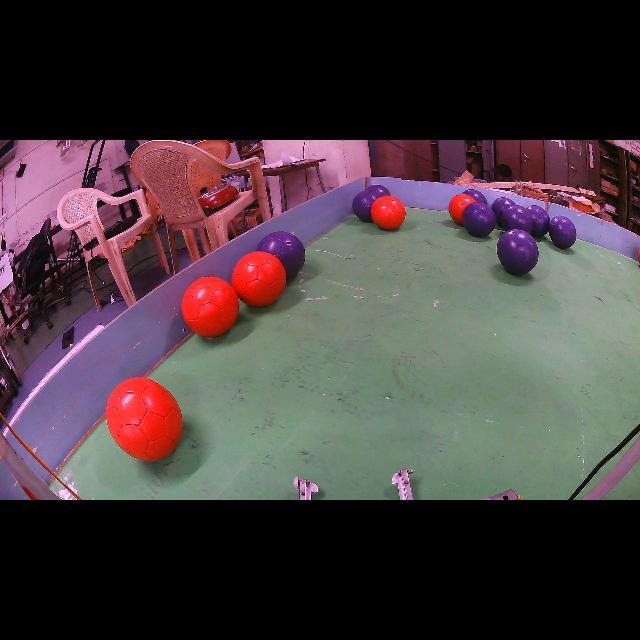P: (256, 231, 305, 278), (496, 230, 539, 275), (352, 185, 390, 222), (462, 201, 496, 238), (501, 205, 534, 234), (549, 215, 576, 249), (528, 205, 550, 238), (491, 198, 515, 226), (462, 189, 488, 204)
R: (106, 378, 182, 461), (181, 278, 239, 338), (231, 251, 286, 306), (371, 195, 406, 230), (449, 194, 475, 225)
